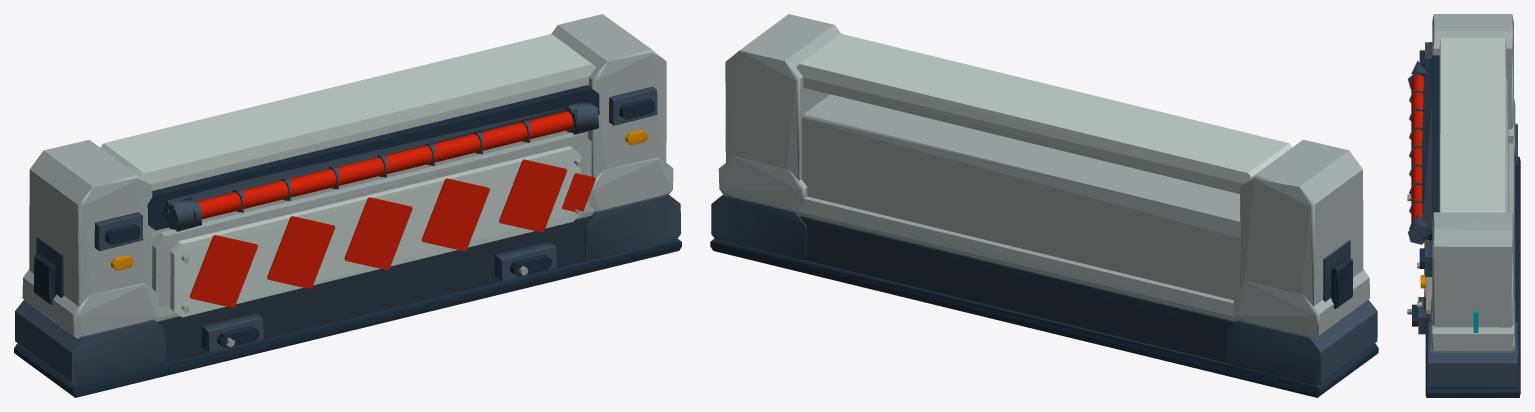
File: barriere.glb
3 renders of one model, left to right at view 1: azimuth 30°, elevation 25°; view 2: azimuth 150°, elevation 25°; view 3: azimuth 270°, elevation 25°, orthographic. The views are drawn at different scales.
Visible parts, largest first — view 1: corps__gris_clair3, corps__gris_clair2, corps__bleu_nuit2, corps__bleu_nuit, corps__rouge, hazard_red_lamp__rouge; view 2: corps__gris_clair2, corps__bleu_nuit2, corps__gris_clair3, corps__bleu_nuit; view 3: corps__gris_clair2, corps__gris_clair3, corps__bleu_nuit2, corps__bleu_nuit, hazard_red_lamp__rouge, corps__cyan, corps__gris_clair.
Part boxes in pixels (box(x1,y1,x2,y2)): corps__gris_clair3: box(100, 34, 595, 317); corps__gris_clair2: box(22, 14, 673, 338); corps__bleu_nuit2: box(15, 86, 680, 385); corps__bleu_nuit: box(14, 85, 681, 397); corps__rouge: box(189, 159, 595, 307); hazard_red_lamp__rouge: box(196, 111, 573, 219); corps__gris_clair2: box(718, 14, 1369, 338); corps__bleu_nuit2: box(711, 194, 1377, 385); corps__gris_clair3: box(796, 33, 1291, 193); corps__bleu_nuit: box(710, 238, 1378, 397); corps__gris_clair2: box(1430, 14, 1515, 352); corps__gris_clair3: box(1426, 38, 1506, 313); corps__bleu_nuit2: box(1408, 42, 1517, 388); corps__bleu_nuit: box(1412, 50, 1520, 397); hazard_red_lamp__rouge: box(1411, 75, 1423, 222); corps__cyan: box(1473, 311, 1478, 332); corps__gris_clair: box(1407, 194, 1422, 314).
Size of the model in its own units: 3.14 by 0.9977 by 0.6387.
